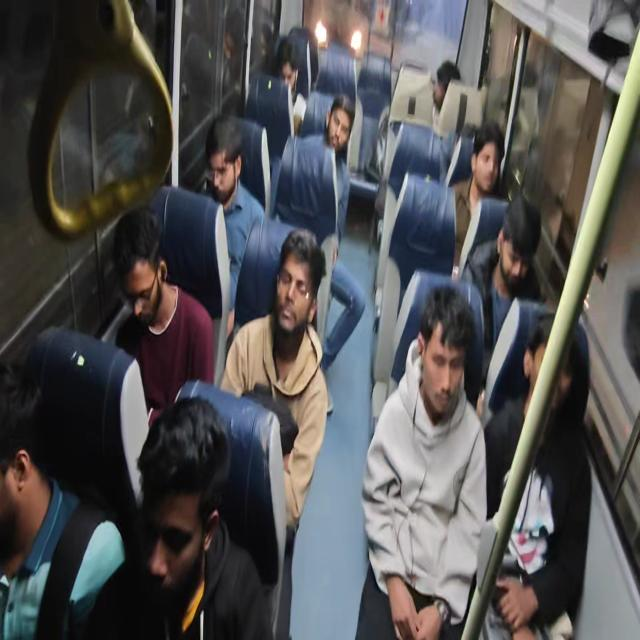person: (123, 397, 223, 604), (0, 354, 59, 566), (106, 206, 170, 344), (259, 212, 320, 352), (418, 274, 469, 426), (519, 300, 573, 416), (498, 196, 542, 294), (199, 106, 242, 197), (262, 30, 301, 94), (474, 121, 506, 196), (328, 94, 353, 156), (432, 62, 458, 118), (454, 124, 476, 141)
